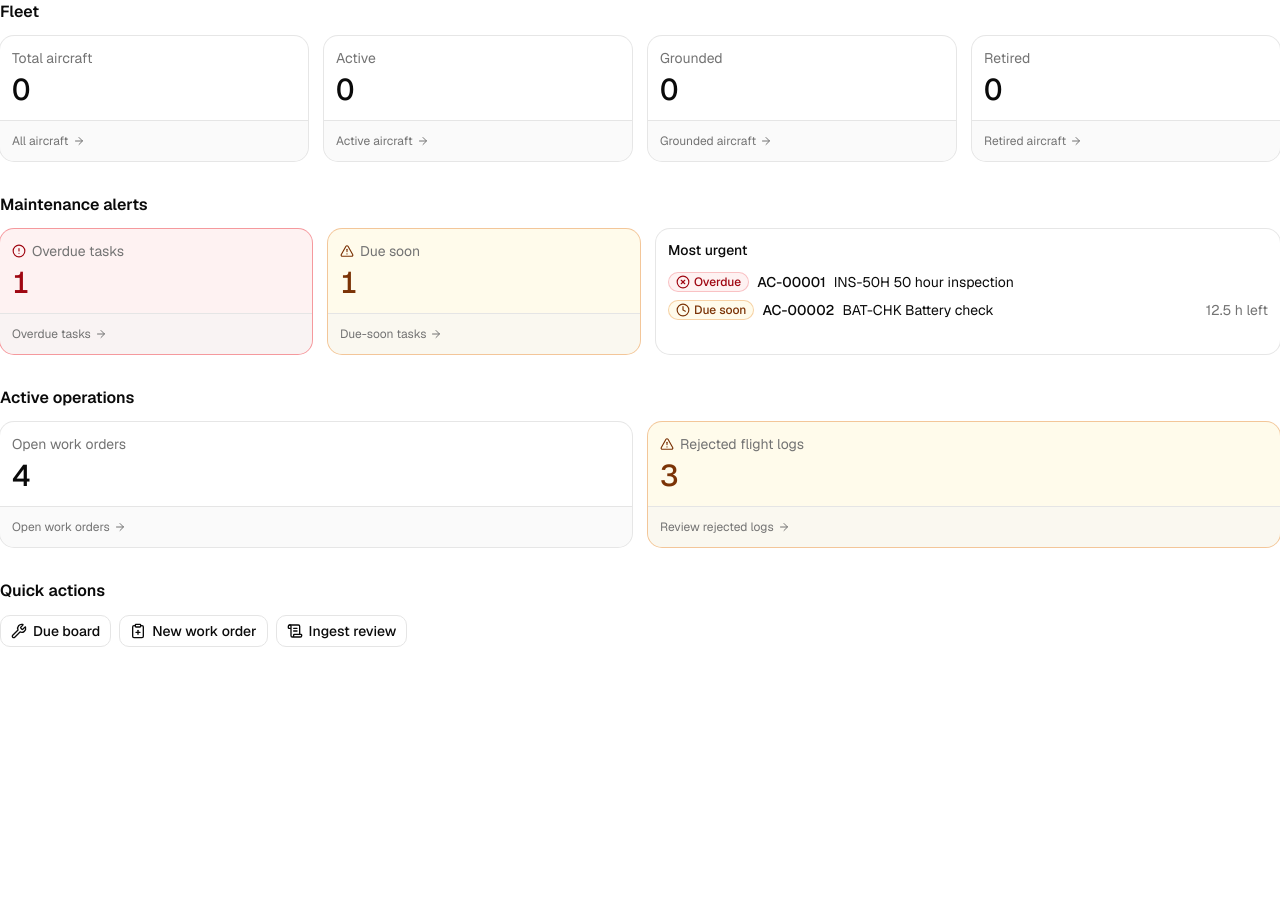
Test: Dashboard › opens the work order dialog from the quick actions
Click the button "New work order": (193, 631) [119,615,268,647]
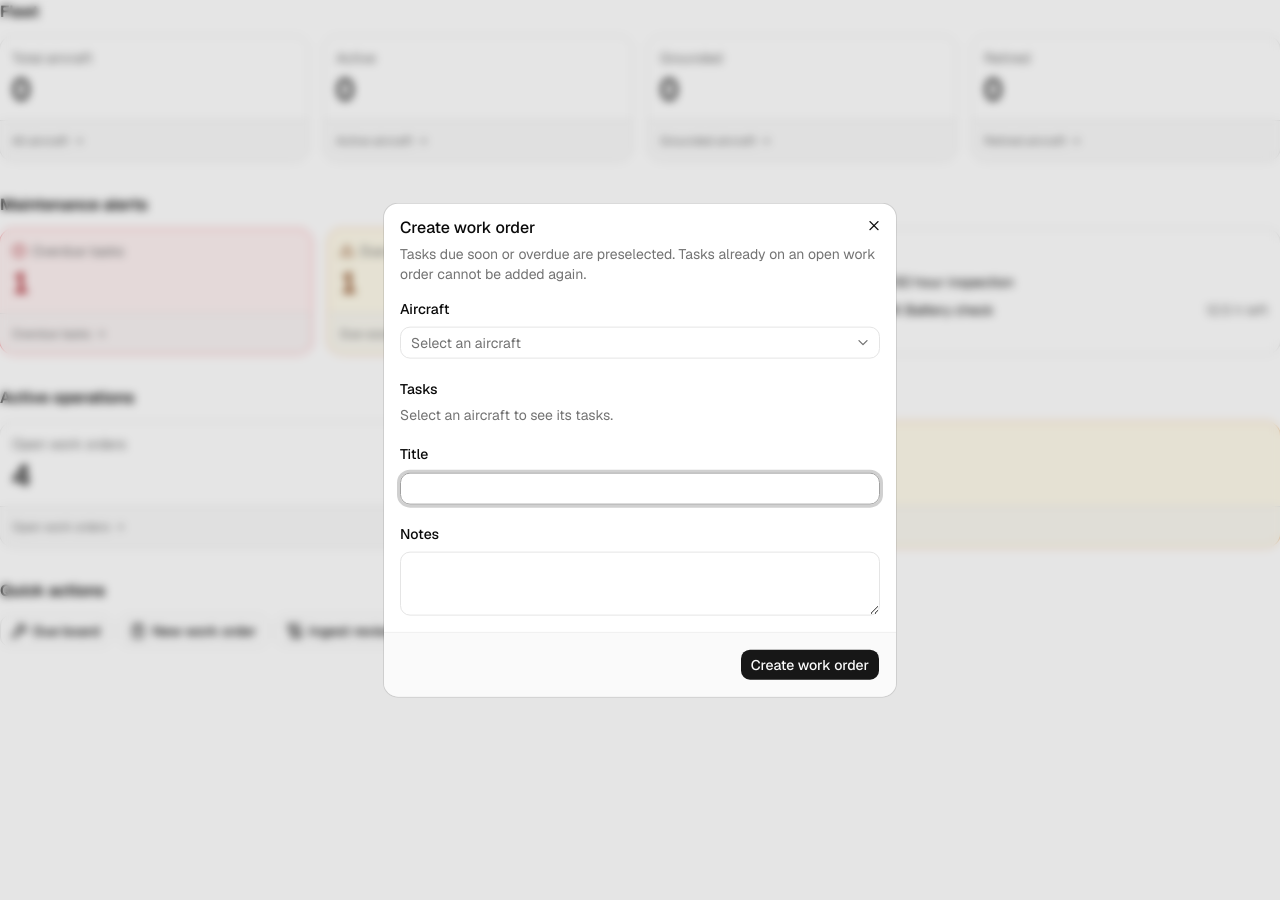
Now the dialog shows "Create work order", box [400,217,535,238]
